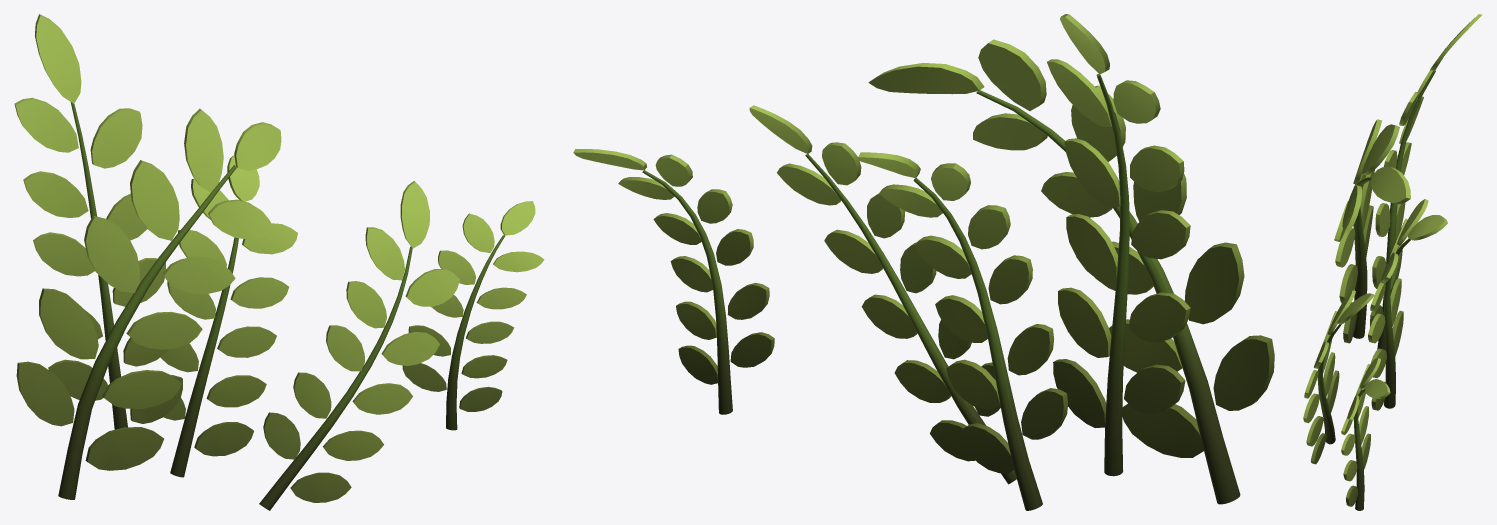
3 renders of one model, left to right at view 1: azimuth 30°, elevation 25°; view 2: azimuth 150°, elevation 25°; view 3: azimuth 270°, elevation 25°, orthographic. The views are drawn at different scales.
Visible parts, largest first — view 1: 叶子.014, 叶子.005, 叶子.011, 叶子.012, 叶子.013; view 2: 叶子.014, 叶子.011, 叶子.012, 叶子.005, 叶子.013; view 3: 叶子.014, 叶子.012, 叶子.005, 叶子.011, 叶子.013.
Boxes of the visible parts, box(x1,y1,x2,y2) form: 叶子.014: box(16, 108, 281, 499); 叶子.005: box(259, 181, 459, 510); 叶子.011: box(14, 14, 182, 429); 叶子.012: box(160, 155, 297, 477); 叶子.013: box(402, 201, 544, 430); 叶子.014: box(868, 39, 1274, 504); 叶子.011: box(1047, 14, 1190, 476); 叶子.012: box(858, 152, 1067, 510); 叶子.005: box(749, 105, 1016, 484); 叶子.013: box(573, 149, 774, 414); 叶子.014: box(1334, 119, 1410, 343); 叶子.012: box(1368, 199, 1447, 410); 叶子.005: box(1303, 290, 1374, 464); 叶子.011: box(1370, 14, 1482, 349); 叶子.013: box(1341, 358, 1390, 510).
Bounding box in the file's own units: 1.42 × 1.19 × 0.5156.
1 material, 1 textured.
